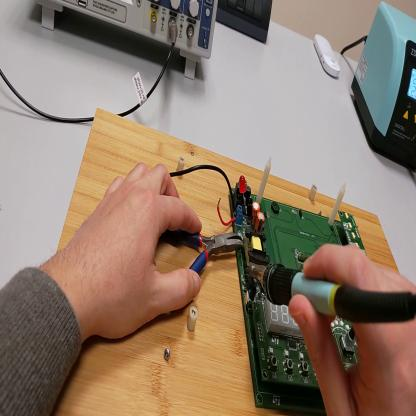hand: (71, 160, 204, 340), (291, 241, 416, 416)
low voltage board: (171, 159, 365, 416)
oscilloscope: (36, 3, 218, 81)
pliers: (163, 226, 245, 272)
welder probe tip: (246, 264, 416, 326)
welder station: (353, 3, 415, 172)
working area: (58, 108, 401, 415)
